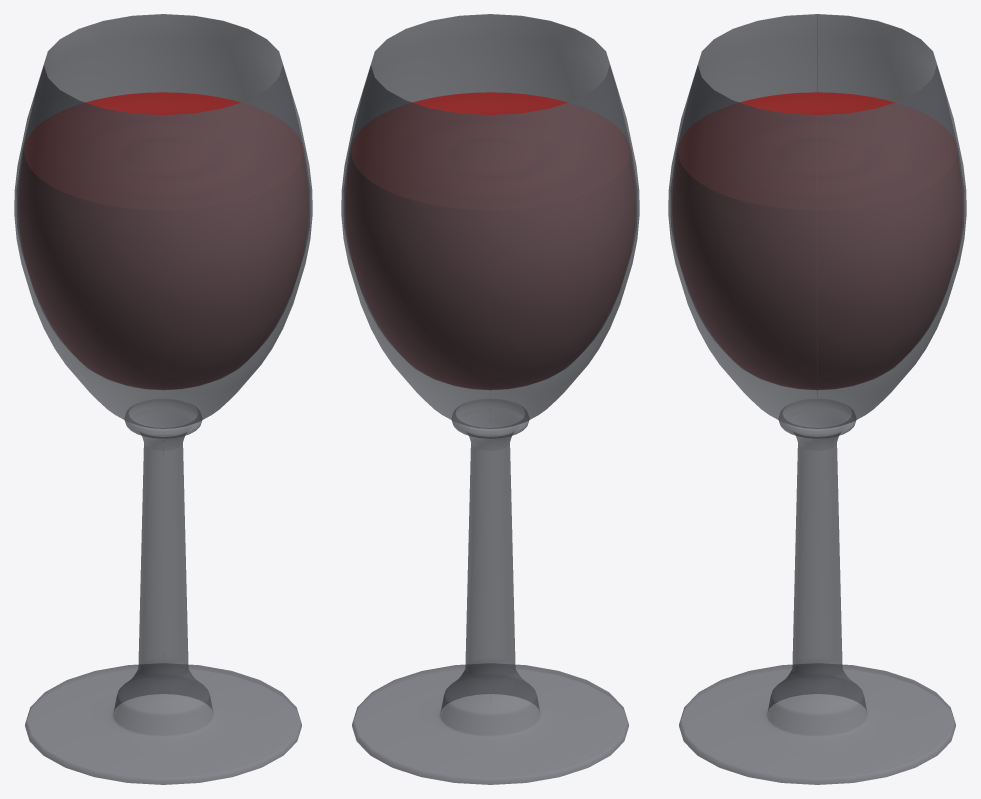
File: wine_glass.glb
The picture shows the model from 3 angles, left to right: view 1: azimuth 30°, elevation 25°; view 2: azimuth 150°, elevation 25°; view 3: azimuth 270°, elevation 25°; orthographic projection.
Visible parts, largest first — view 1: Copa_Vino; view 2: Copa_Vino; view 3: Copa_Vino.
Boxes of the visible parts, x1,y1,x2,y2 form: Copa_Vino: (14, 14, 312, 784); Copa_Vino: (341, 14, 639, 784); Copa_Vino: (668, 14, 966, 784).
Size of the model in its own units: 0.8179 by 2 by 0.8179.
1 material, 1 textured.
